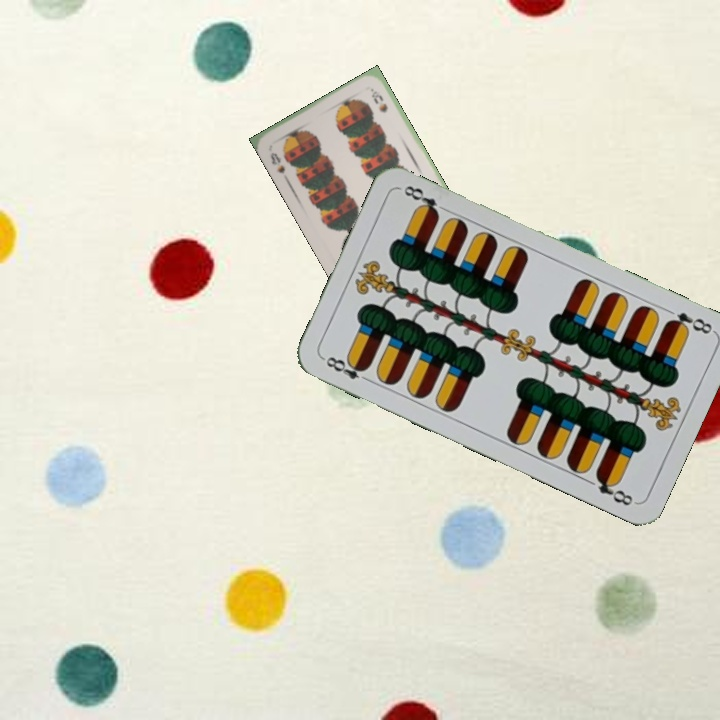E8: (319, 352, 374, 386), (662, 308, 715, 337)
S8: (266, 148, 288, 176)
